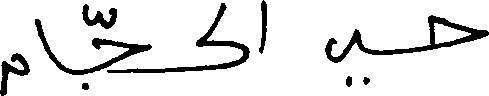ا: (34, 16, 60, 70), (258, 0, 267, 55)
ج: (79, 31, 155, 89)
ح: (189, 35, 249, 74), (427, 12, 487, 49)
ل: (197, 0, 230, 47)
م: (0, 51, 27, 94)
ي: (323, 26, 376, 87)
